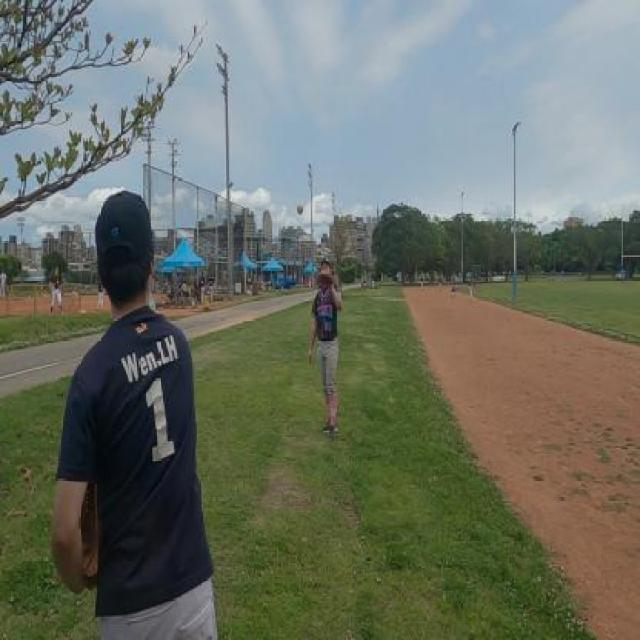baseball: (296, 202, 304, 216)
